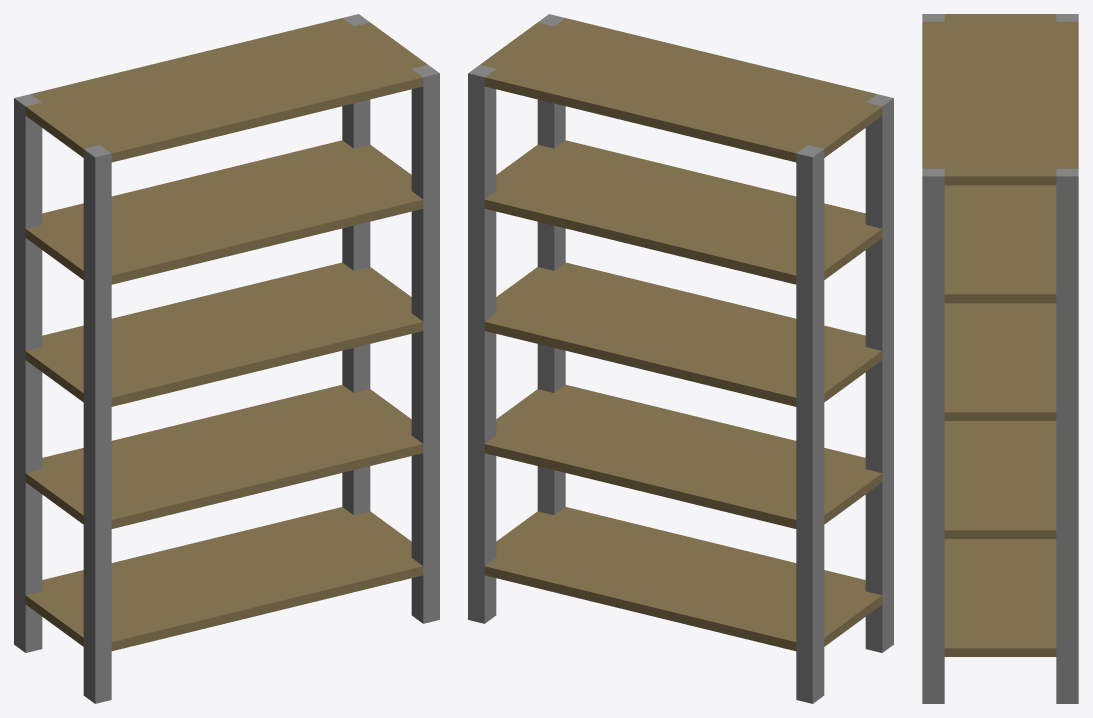
Rendered from stellage kast.fbx.
3 renders of one model, left to right at view 1: azimuth 30°, elevation 25°; view 2: azimuth 150°, elevation 25°; view 3: azimuth 270°, elevation 25°, orthographic. The views are drawn at different scales.
Parts seen in each view (by area): view 1: polySurface3; view 2: polySurface3; view 3: polySurface3.
Part boxes in pixels (box(x1,y1,x2,y2)): polySurface3: box(14, 14, 439, 703); polySurface3: box(468, 14, 893, 703); polySurface3: box(922, 14, 1078, 703).
Size of the model in its own units: 88.54 by 134 by 36.07.
